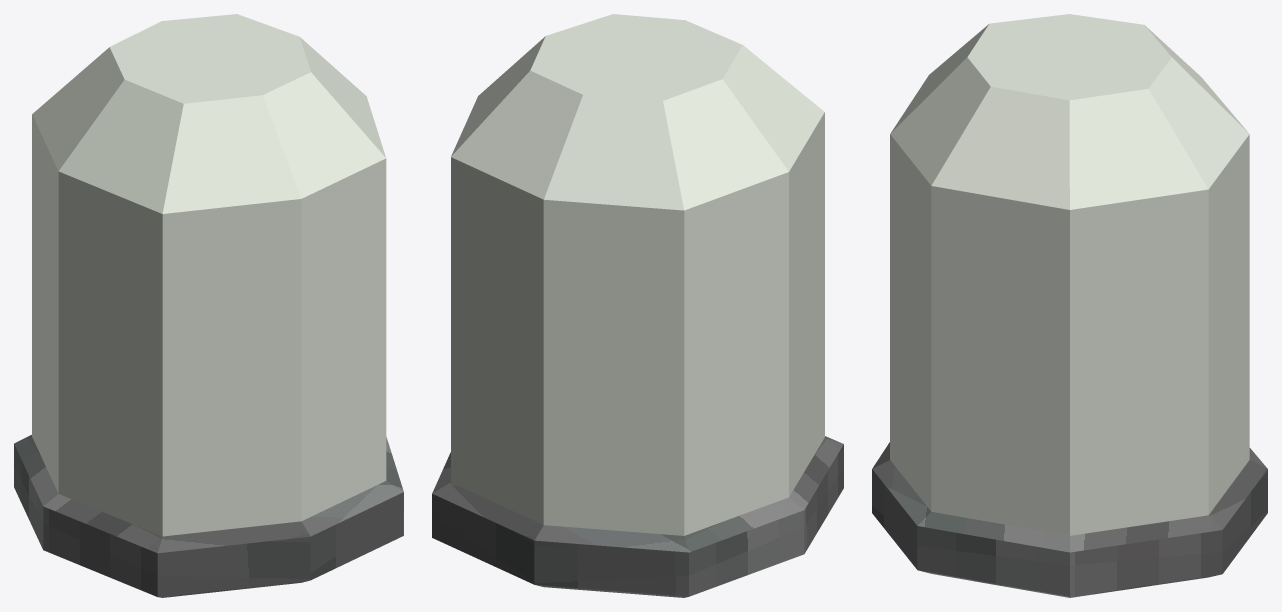
Rendered from whitelight.glb.
The picture shows the model from 3 angles, left to right: view 1: azimuth 30°, elevation 25°; view 2: azimuth 150°, elevation 25°; view 3: azimuth 270°, elevation 25°; orthographic projection.
Visible parts, largest first — view 1: Cube.010; view 2: Cube.010; view 3: Cube.010.
Boxes of the visible parts, x1,y1,x2,y2 form: Cube.010: [14, 14, 403, 597]; Cube.010: [432, 14, 843, 597]; Cube.010: [872, 14, 1267, 597].
Bounding box in the file's own units: 0.3265 × 0.4229 × 0.3265.
1 material, 1 textured.
